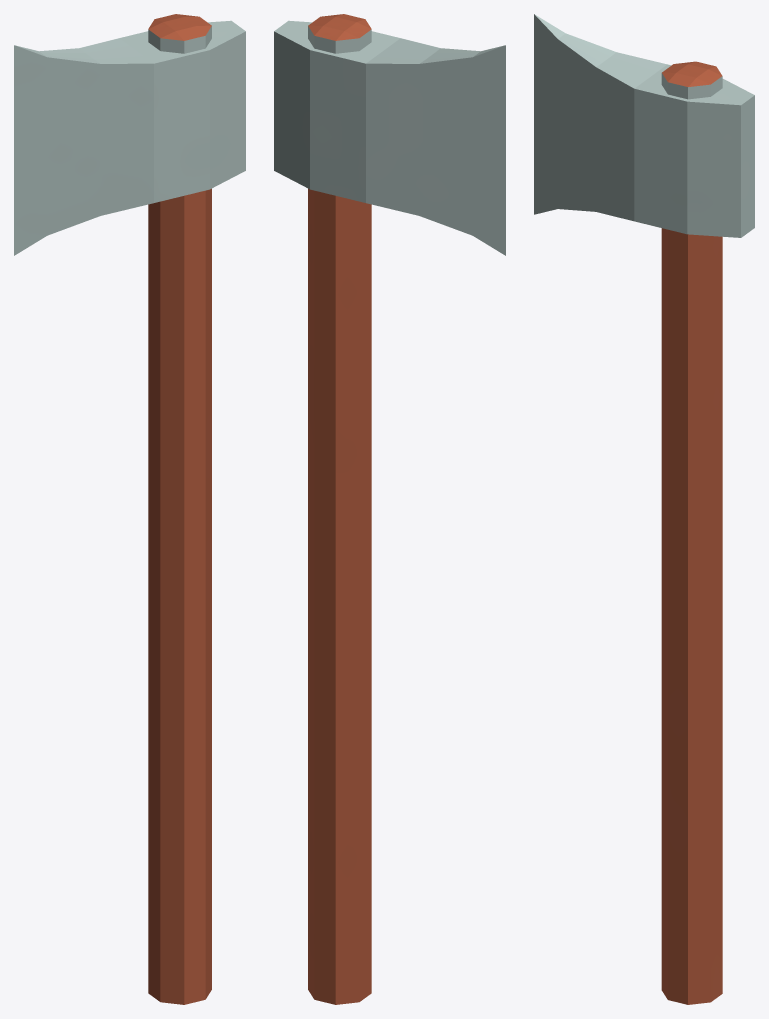
Rendered from Axe.glb.
The picture shows the model from 3 angles, left to right: view 1: azimuth 30°, elevation 25°; view 2: azimuth 150°, elevation 25°; view 3: azimuth 330°, elevation 25°; orthographic projection. The views are drawn at different scales.
Parts seen in each view (by area): view 1: One handed axe; view 2: One handed axe; view 3: One handed axe.
Boxes of the visible parts, left/top/right/bottom form: One handed axe: left=14, top=14, right=245, bottom=1004; One handed axe: left=274, top=14, right=505, bottom=1004; One handed axe: left=534, top=14, right=754, bottom=1004.
Bounding box in the file's own units: 0.1643 × 0.6894 × 0.0441.
1 material, 1 textured.
